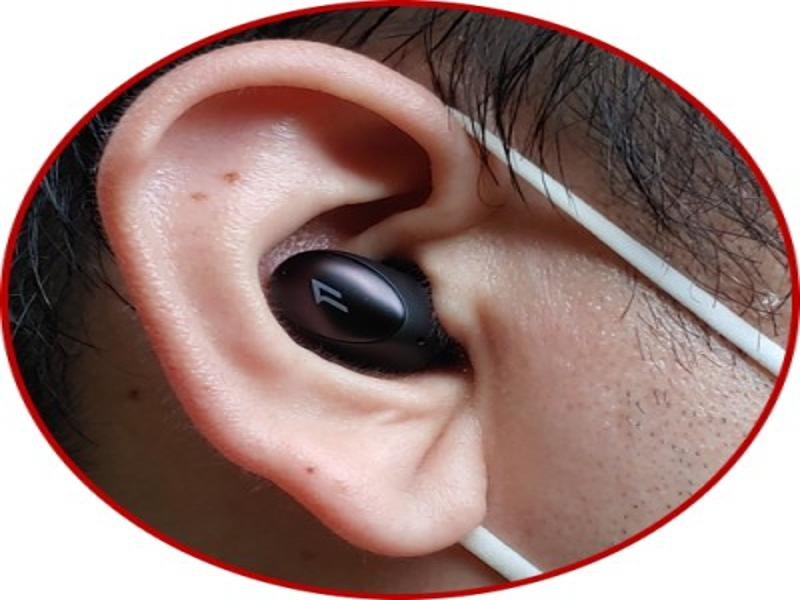headphone: (265, 247, 461, 385)
